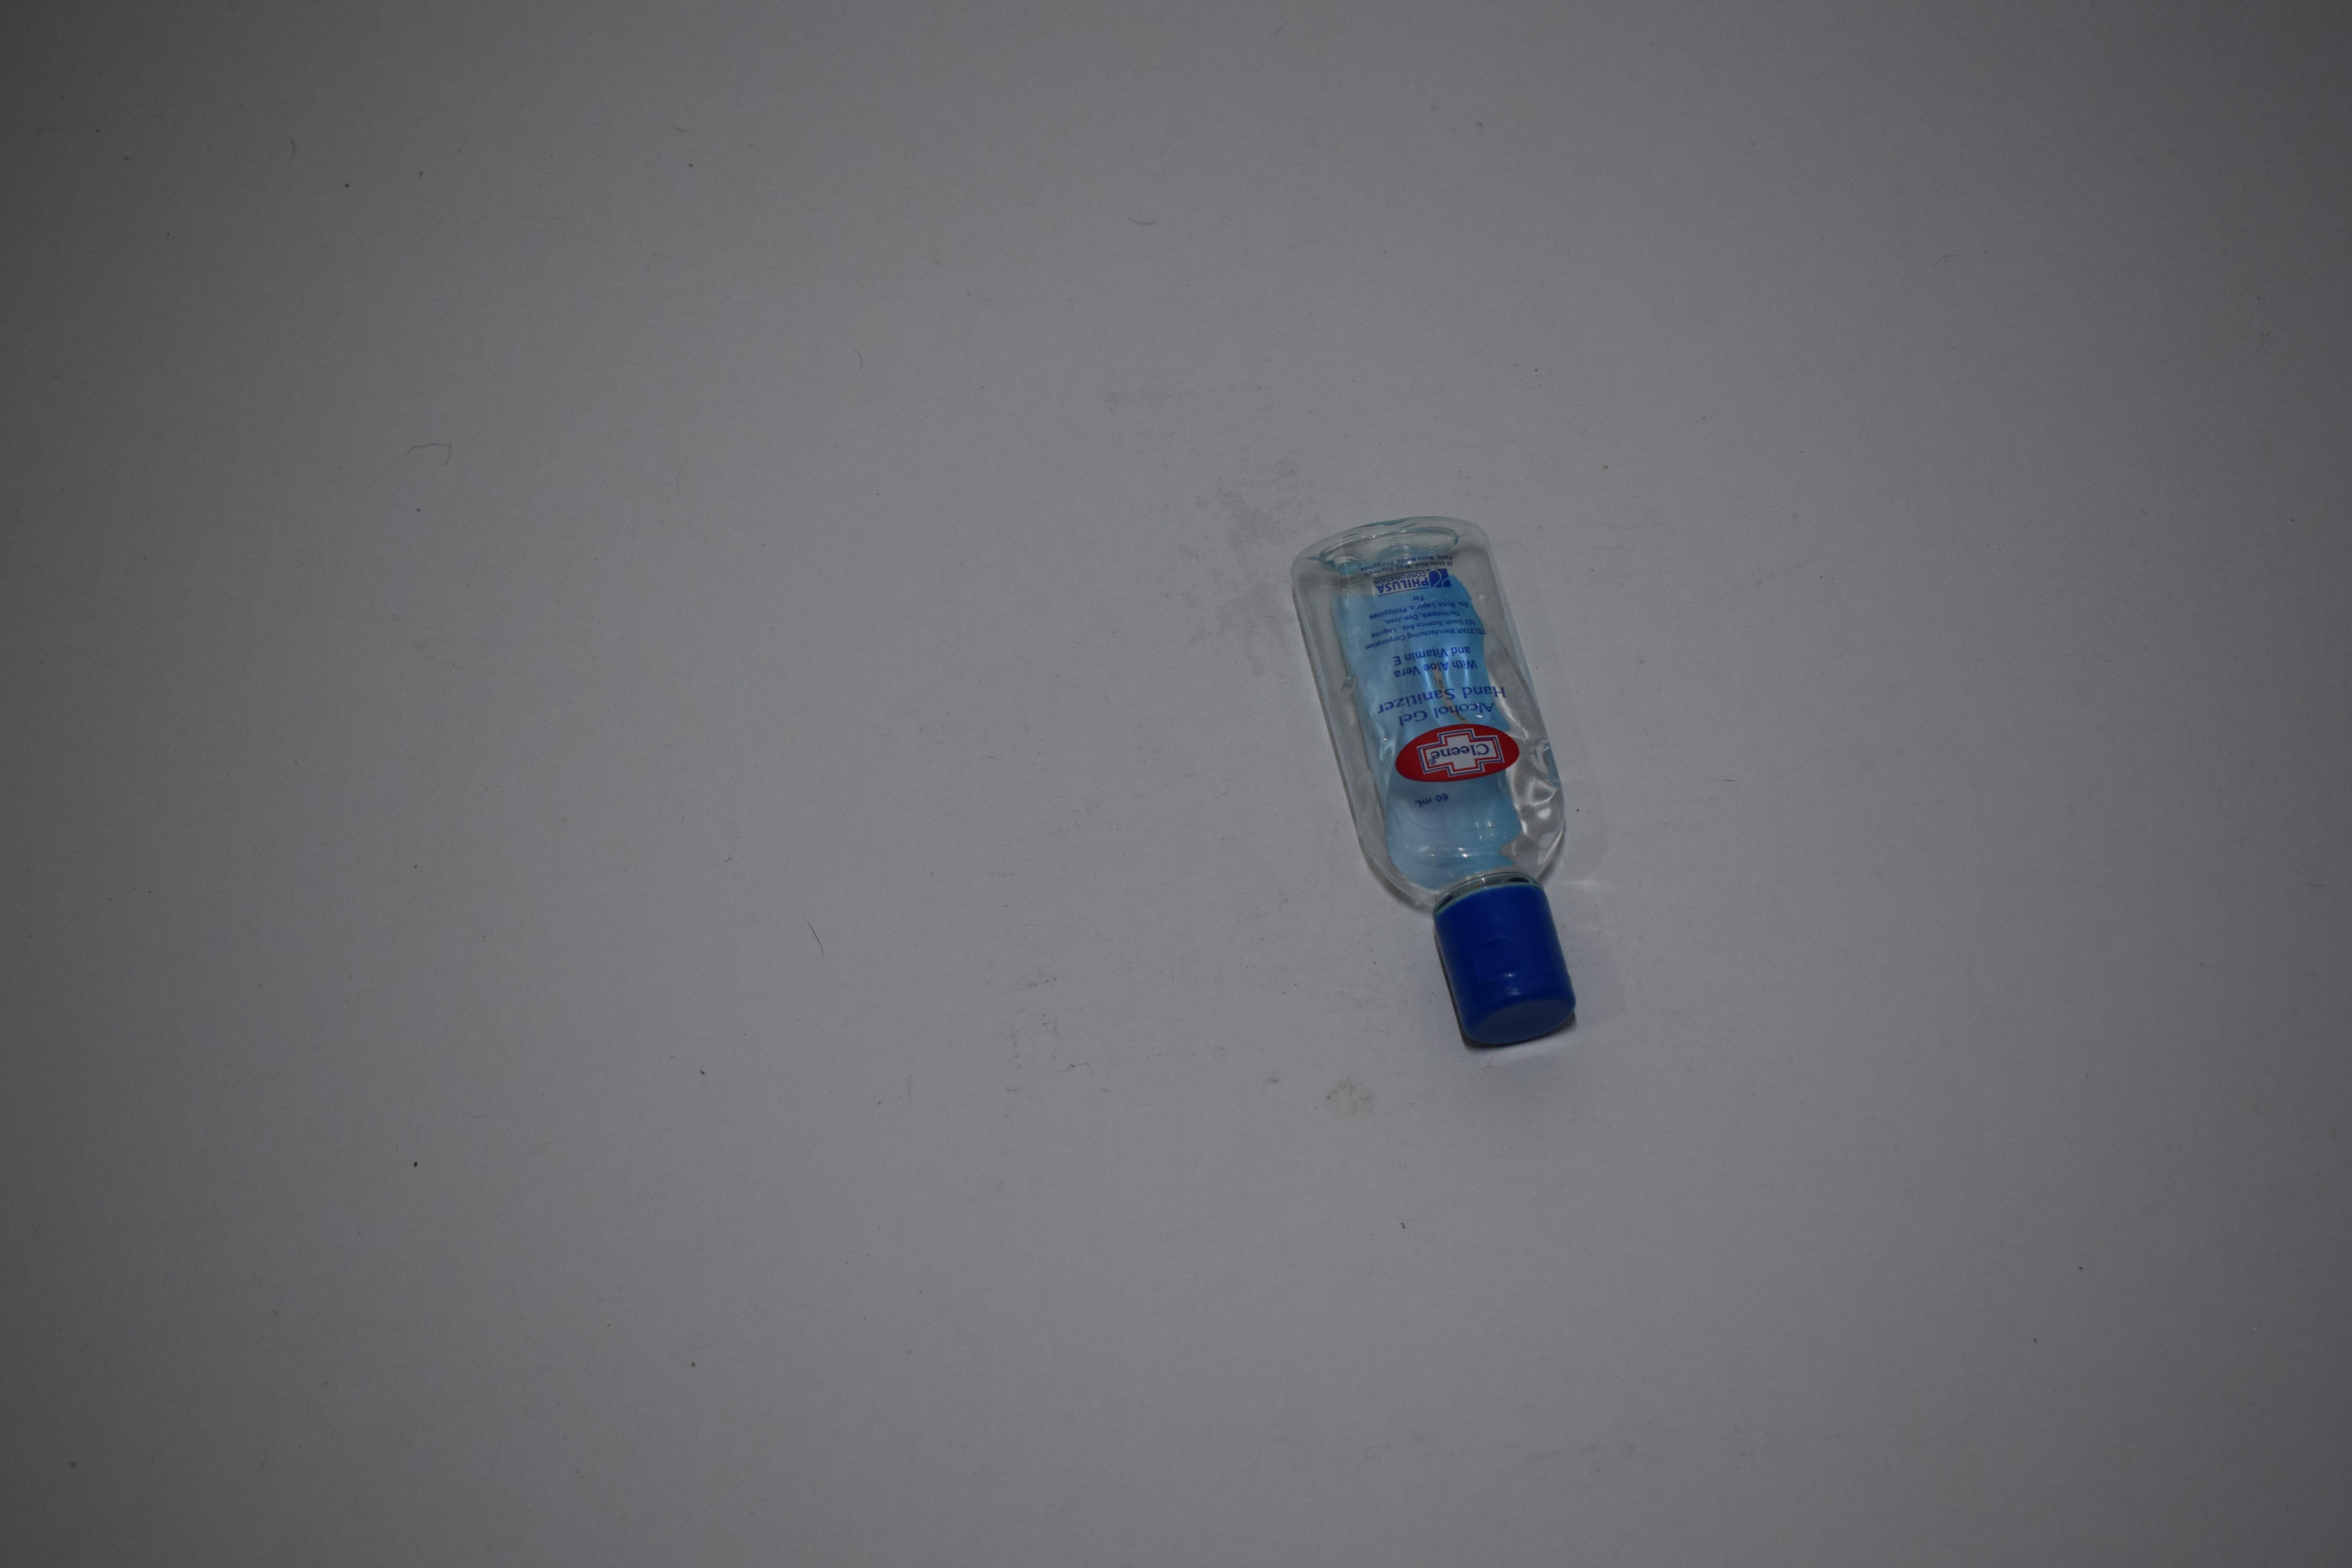bottle: (1281, 0, 1584, 235)
